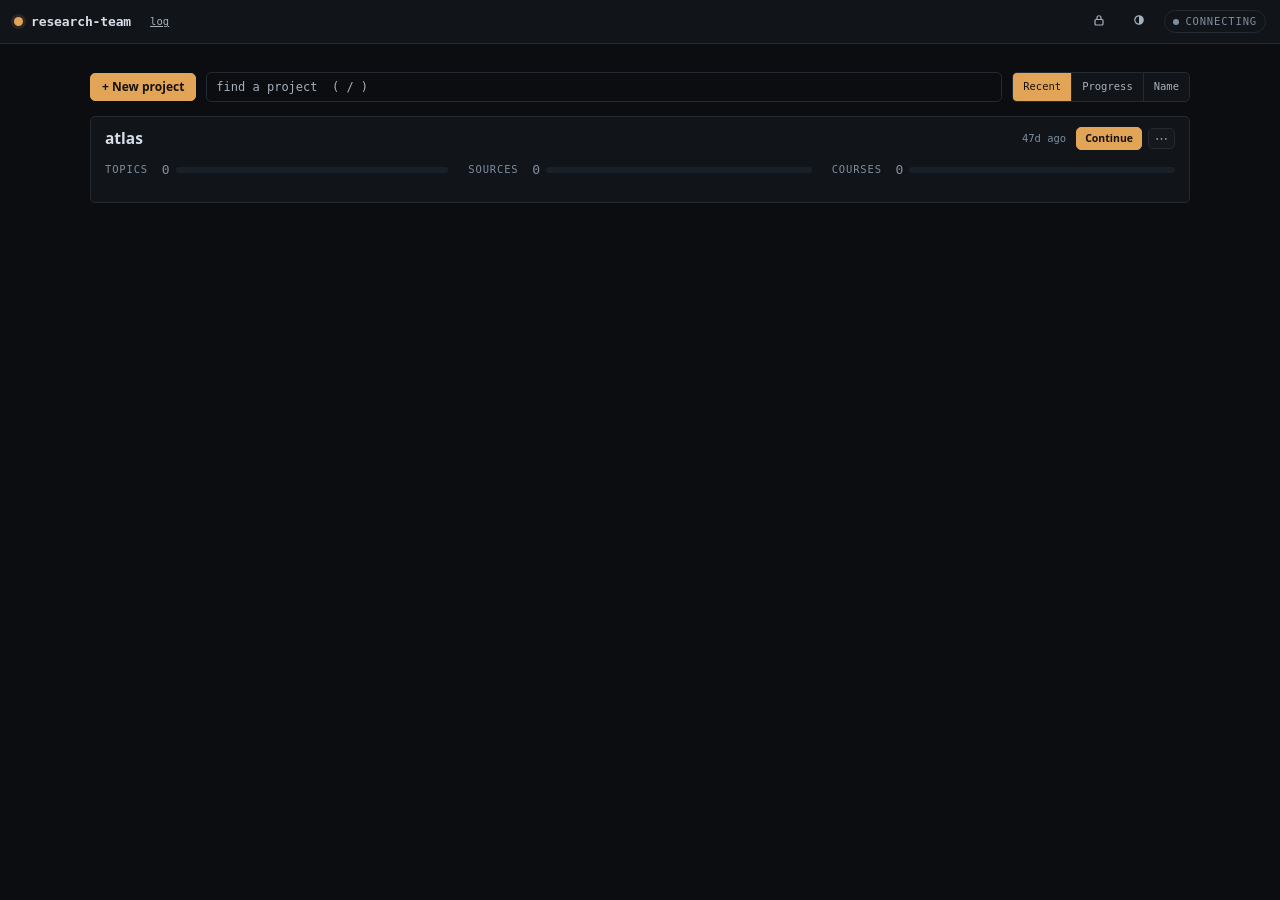
Test: opens a dialog, which needs the overlay host the shell mounts
Click the button named "More actions for atlas". click: (1162, 139)
box: [1148, 128, 1175, 149]
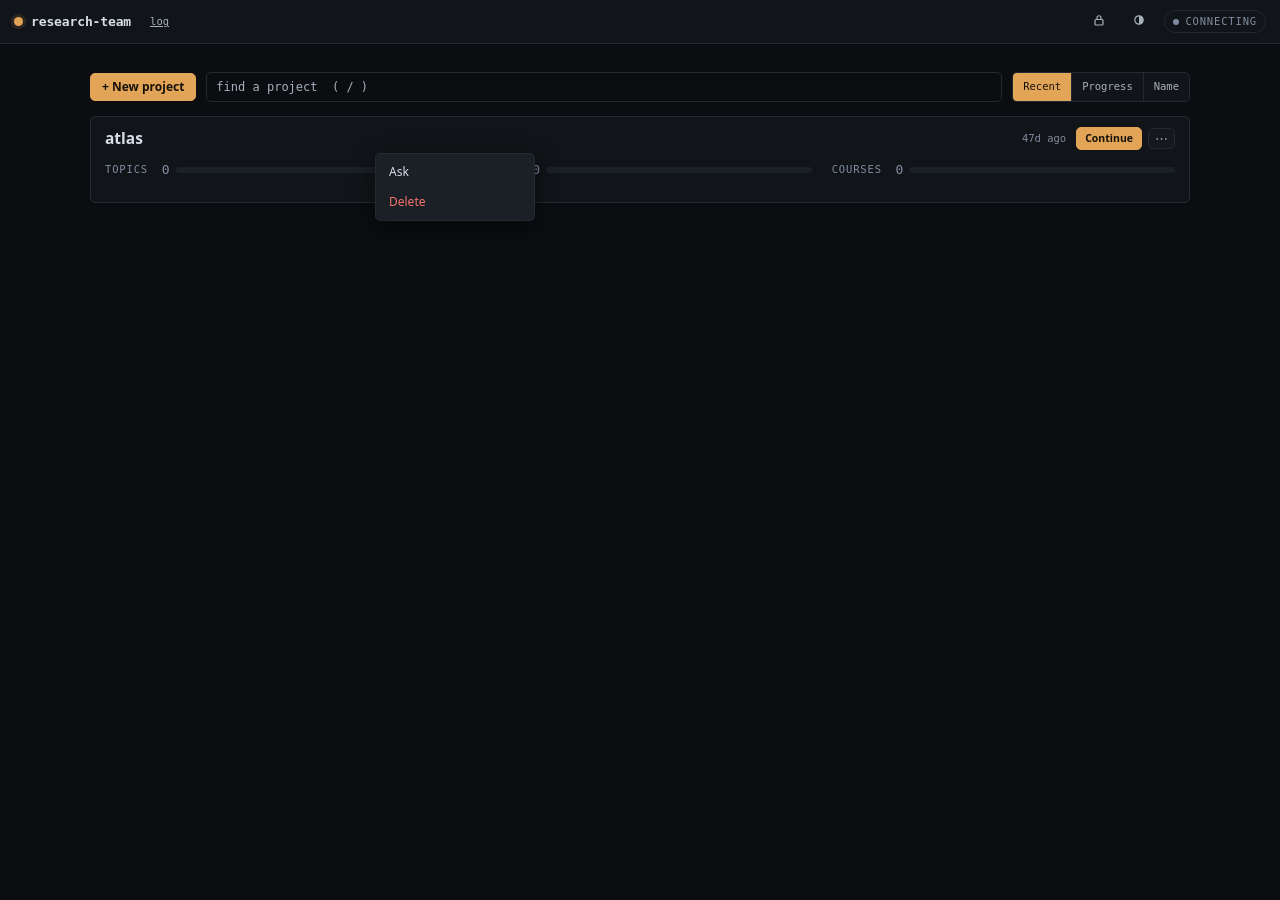
Click the menu item "Delete". click: (407, 202)
box: [389, 193, 426, 210]
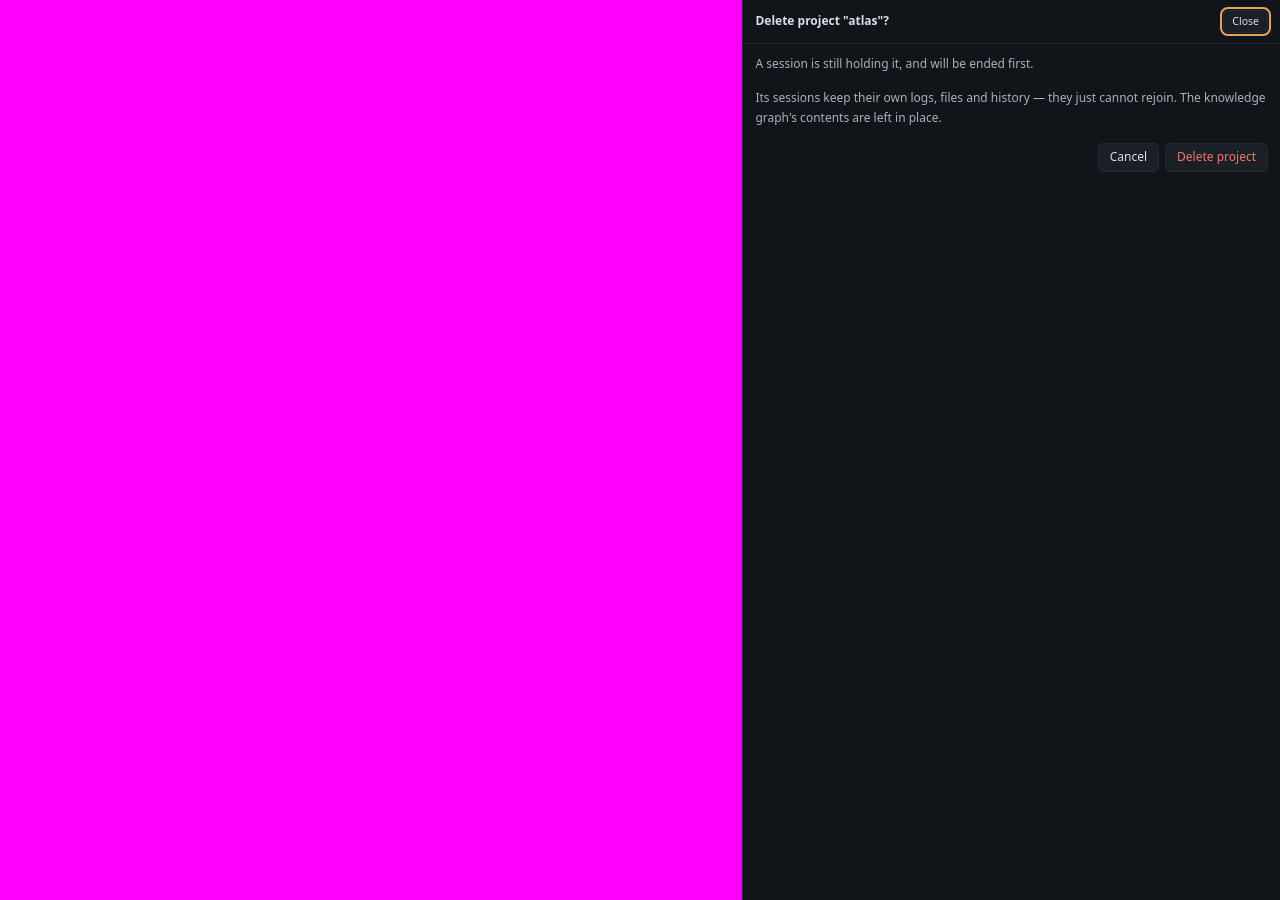
Result: the text "cannot rejoin" is shown at [755, 89, 1266, 126]
